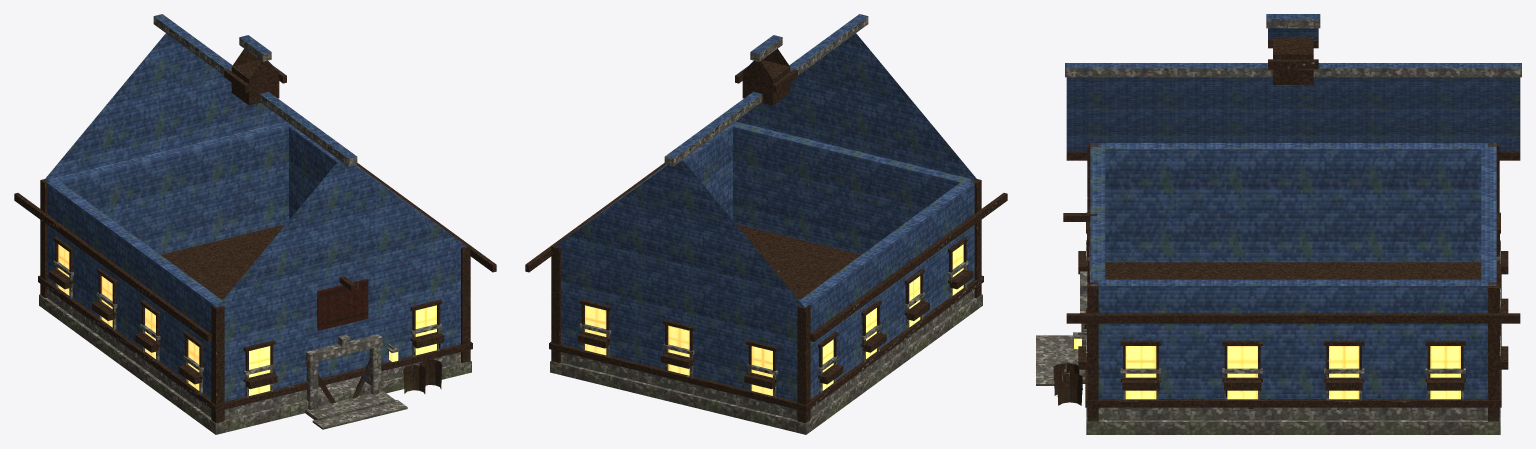
File: bld_barn_card_lod1.glb
3 views of the same model, side by side, from view 1: azimuth 30°, elevation 25°; view 2: azimuth 150°, elevation 25°; view 3: azimuth 270°, elevation 25° (orthographic). The views are drawn at different scales.
Parts seen in each view (by area): view 1: barn_card; view 2: barn_card; view 3: barn_card.
Boxes of the visible parts, left/top/right/bottom form: barn_card: left=14, top=14, right=496, bottom=434; barn_card: left=525, top=14, right=1007, bottom=434; barn_card: left=1036, top=14, right=1521, bottom=434.
Bounding box in the file's own units: 19.65 × 19.19 × 24.4.
1 material, 1 textured.
